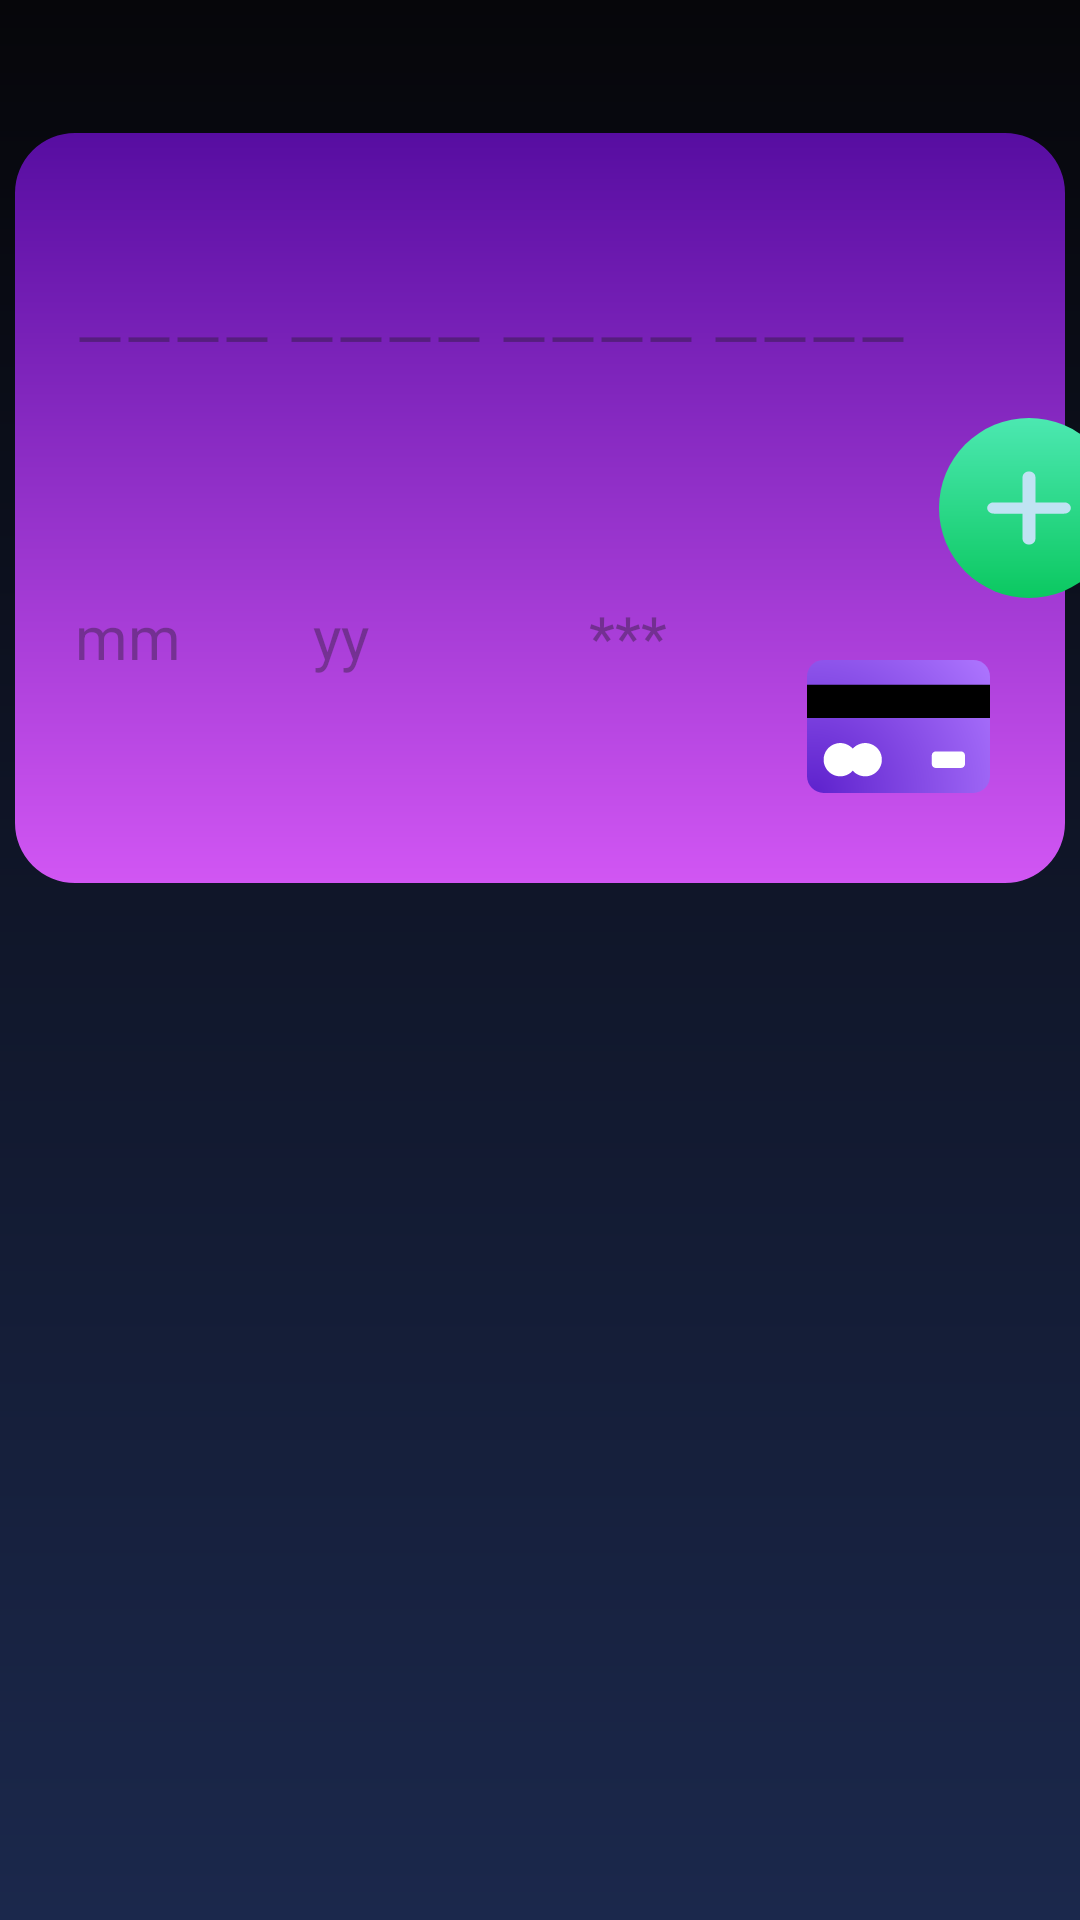

Icons on this 1080px x 1920px Android screen, each with its box as {"left": x1, "top": y1, "right": x2, "bottom": y2}:
blank card: {"left": 807, "top": 660, "right": 990, "bottom": 820}
